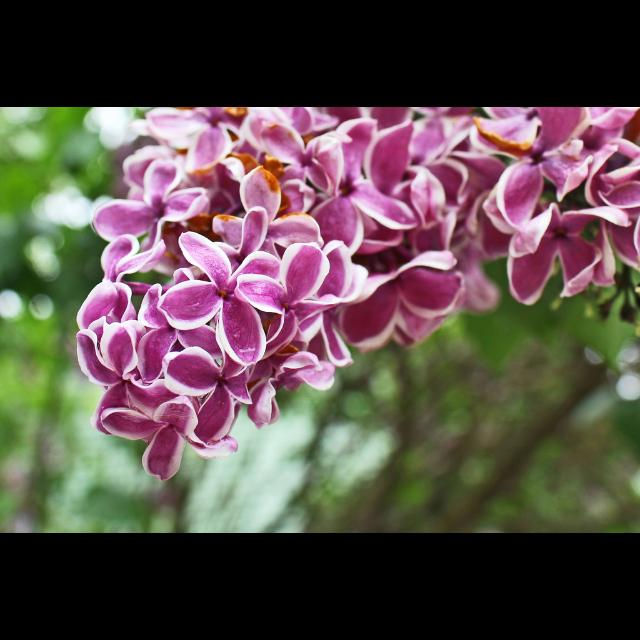Flower: (75, 107, 640, 483)
